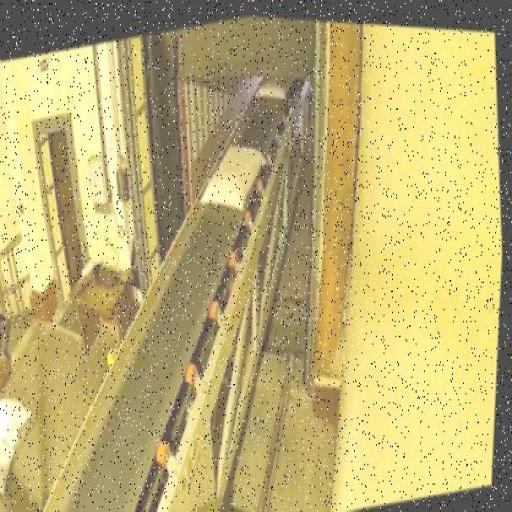c-belt-sack-count: (201, 146, 263, 211), (258, 83, 285, 98)
